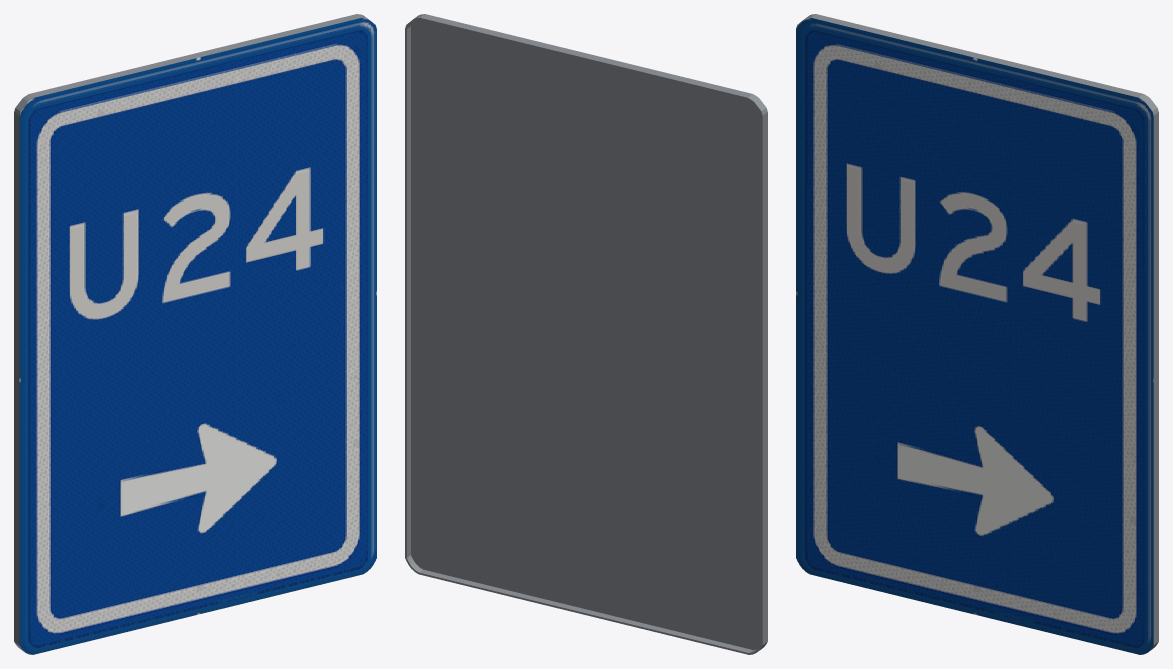
The picture shows the model from 3 angles, left to right: view 1: azimuth 30°, elevation 25°; view 2: azimuth 150°, elevation 25°; view 3: azimuth 330°, elevation 25°; orthographic projection.
Parts seen in each view (by area): view 1: cat_cc273595064b31b3; view 2: cat_cc273595064b31b3; view 3: cat_cc273595064b31b3.
Boxes of the visible parts, left/top/right/bottom form: cat_cc273595064b31b3: left=14, top=14, right=376, bottom=654; cat_cc273595064b31b3: left=405, top=14, right=767, bottom=654; cat_cc273595064b31b3: left=796, top=14, right=1158, bottom=654.
Size of the model in its own units: 0.6 by 0.015 by 0.8927.
Materials: 2 (1 with a texture image).
